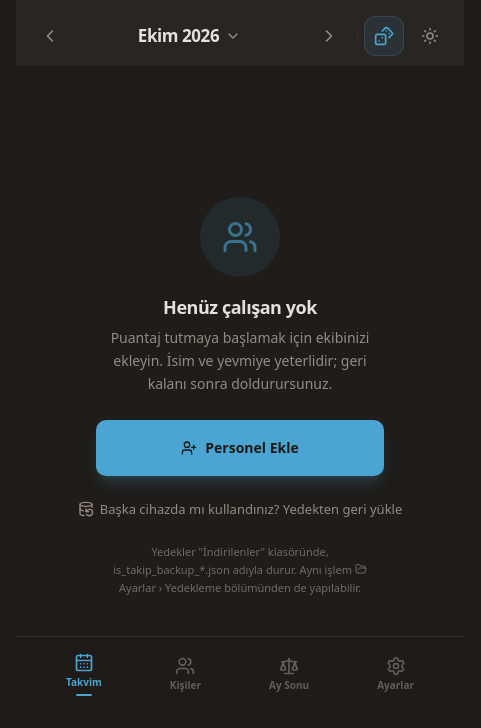
Test: App geri navigasyonu › tab değiştirir
Check: the navigation bar named "Ana menü" is shown, box [16,636,464,727]
Click the button "Kişiler".
click(185, 674)  # box [156,648,215,701]
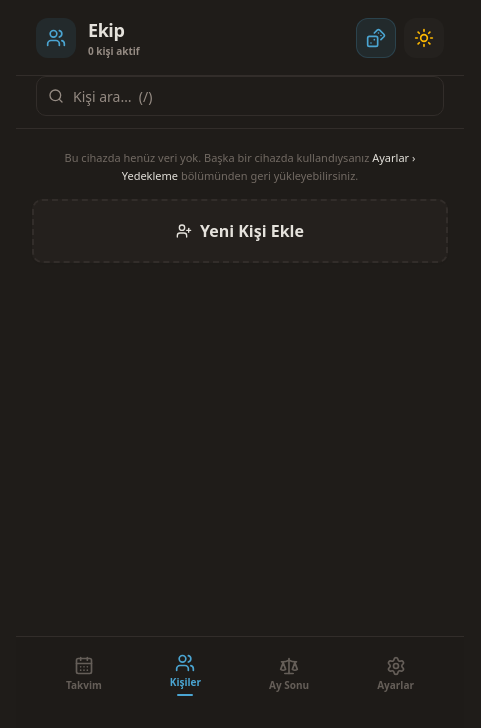
Check: the heading "Ekip" is shown, box [88,18,124,42]
